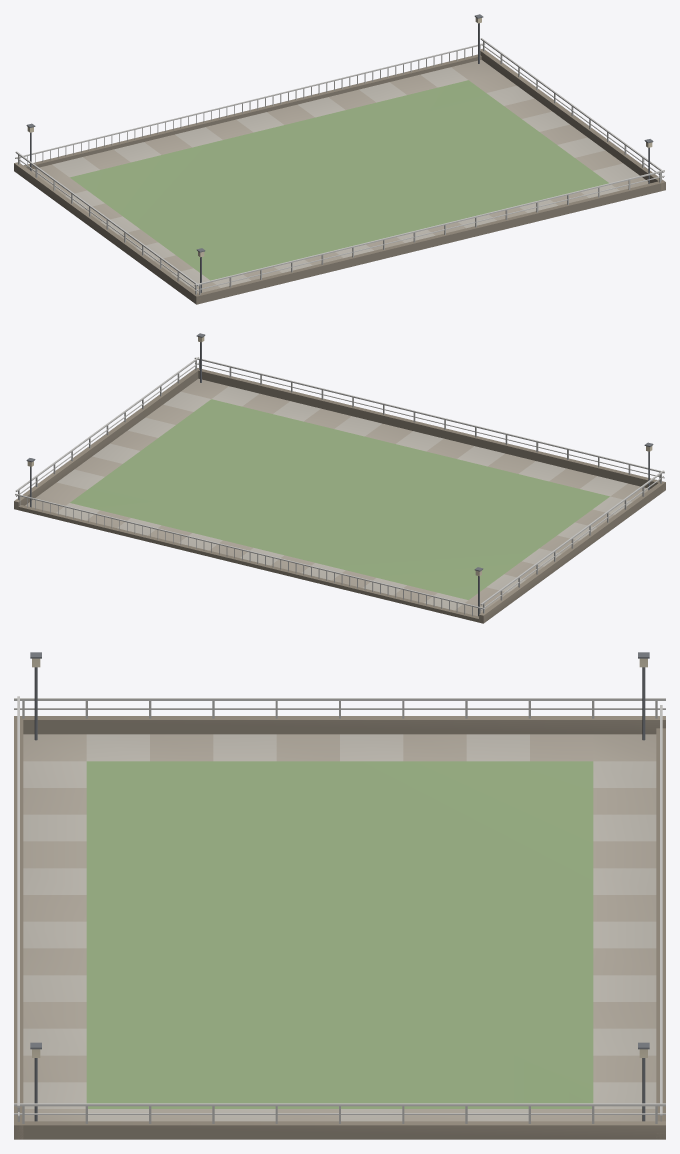
Rendered from roof_floor.glb.
3 views of the same model, one above another, from view 1: azimuth 30°, elevation 25°; view 2: azimuth 150°, elevation 25°; view 3: azimuth 270°, elevation 25° (orthographic). The views are drawn at different scales.
Parts seen in each view (by area): view 1: roof.floor; view 2: roof.floor; view 3: roof.floor.
Boxes of the visible parts, x1,y1,x2,y2 form: roof.floor: (14,14,665,304); roof.floor: (14,333,665,623); roof.floor: (14,652,665,1139).
Bounding box in the file's own units: 30.6 × 3.07 × 20.6.
